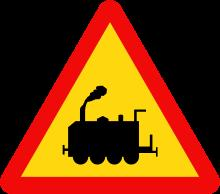Barrier Ahead: (10, 10, 216, 189)
